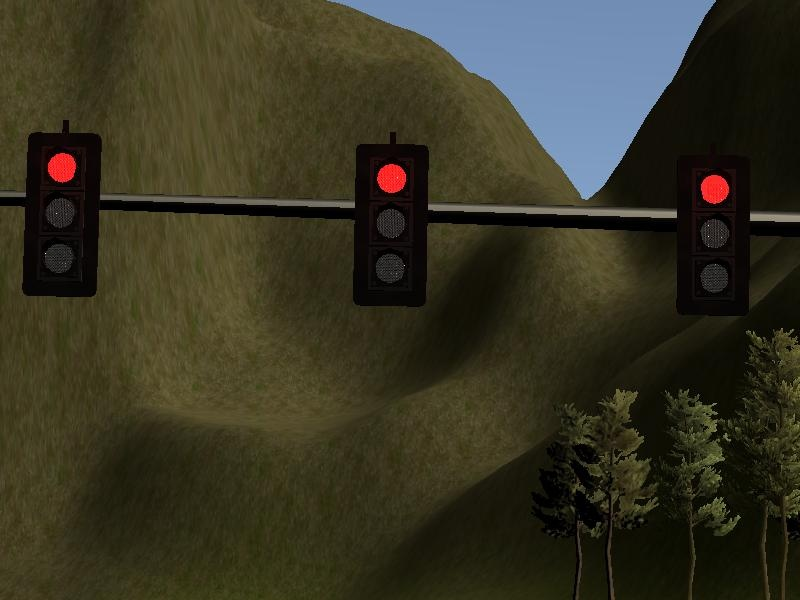RED: (353, 143, 430, 305), (675, 153, 752, 315), (23, 131, 100, 293)
